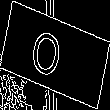O_S: (37, 24, 73, 86)
